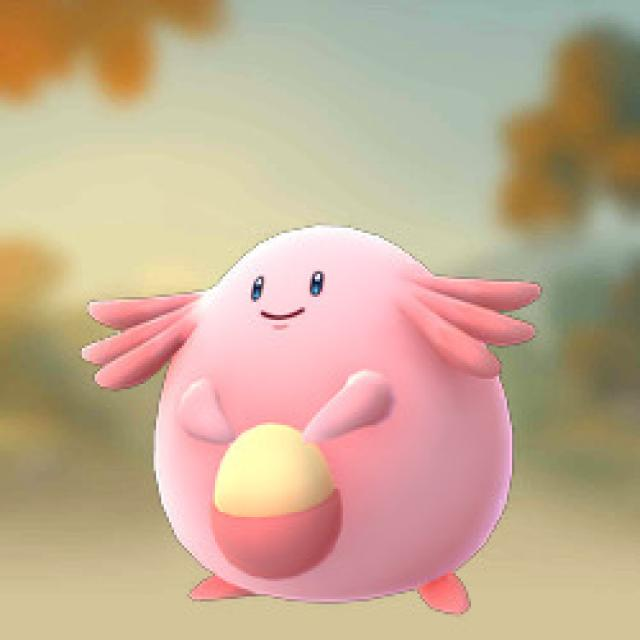Chansey: (96, 225, 544, 610)
